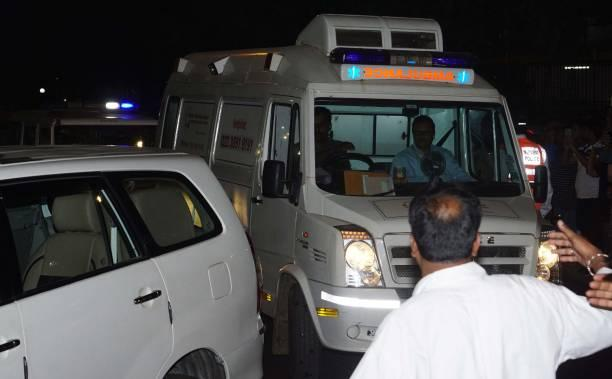AMBULANCE: (150, 14, 553, 195)
